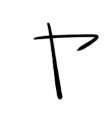ya: (30, 21, 103, 102)
